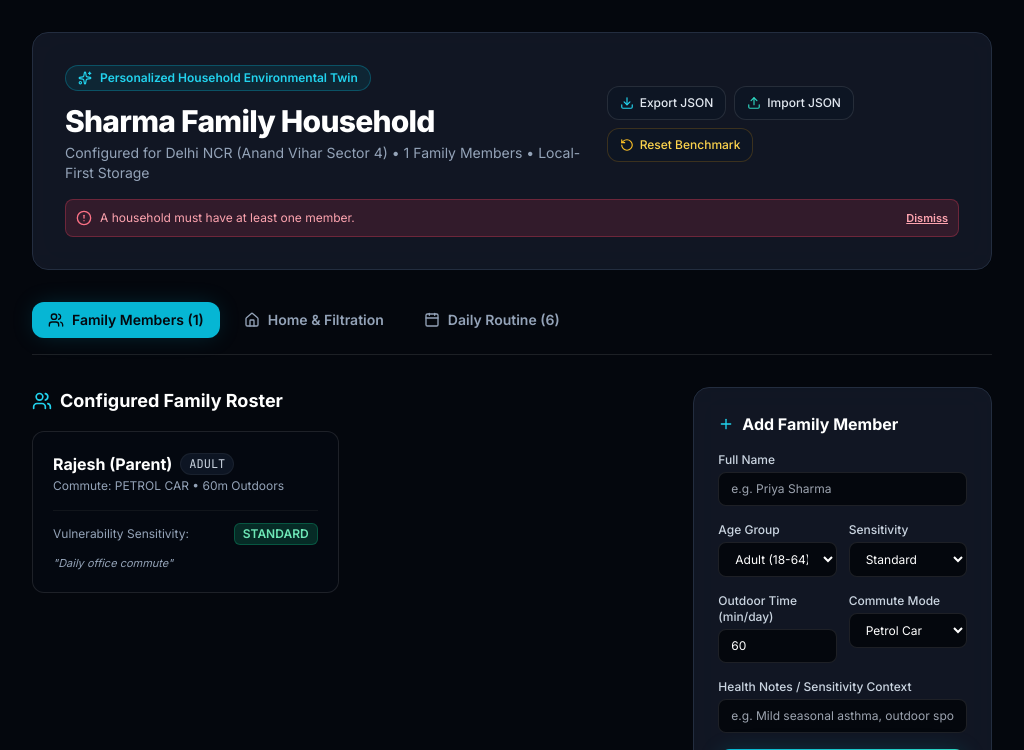
Test: Navigation, Methodology, Simulator & Accessibility DOM Verification › HouseholdWorkbench shows accessible inline alert when trying to remove last remaining member
Earlier steps of the test are not shown.
Expected: the message shows "at least one member", [100,210,355,225]
Click the button "Dismiss": (927, 218) [906,210,948,226]
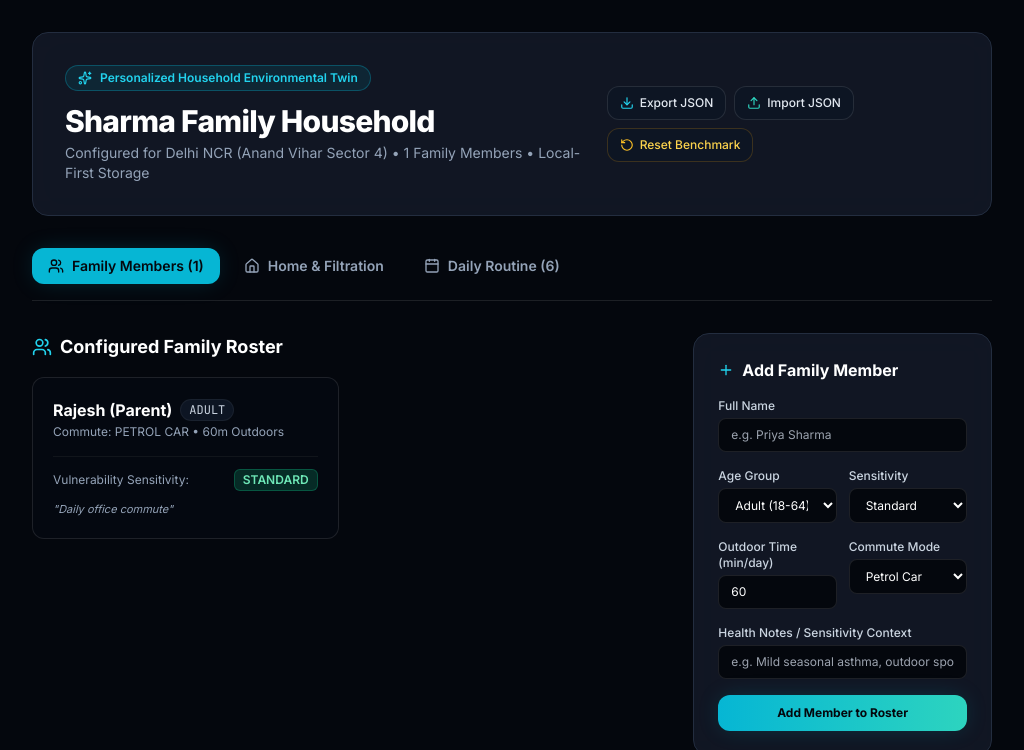
Expected: the message "A household must have at least one member. Dismiss" is gone
